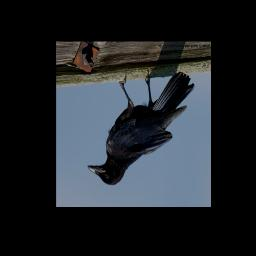Crow: (87, 72, 195, 186)
